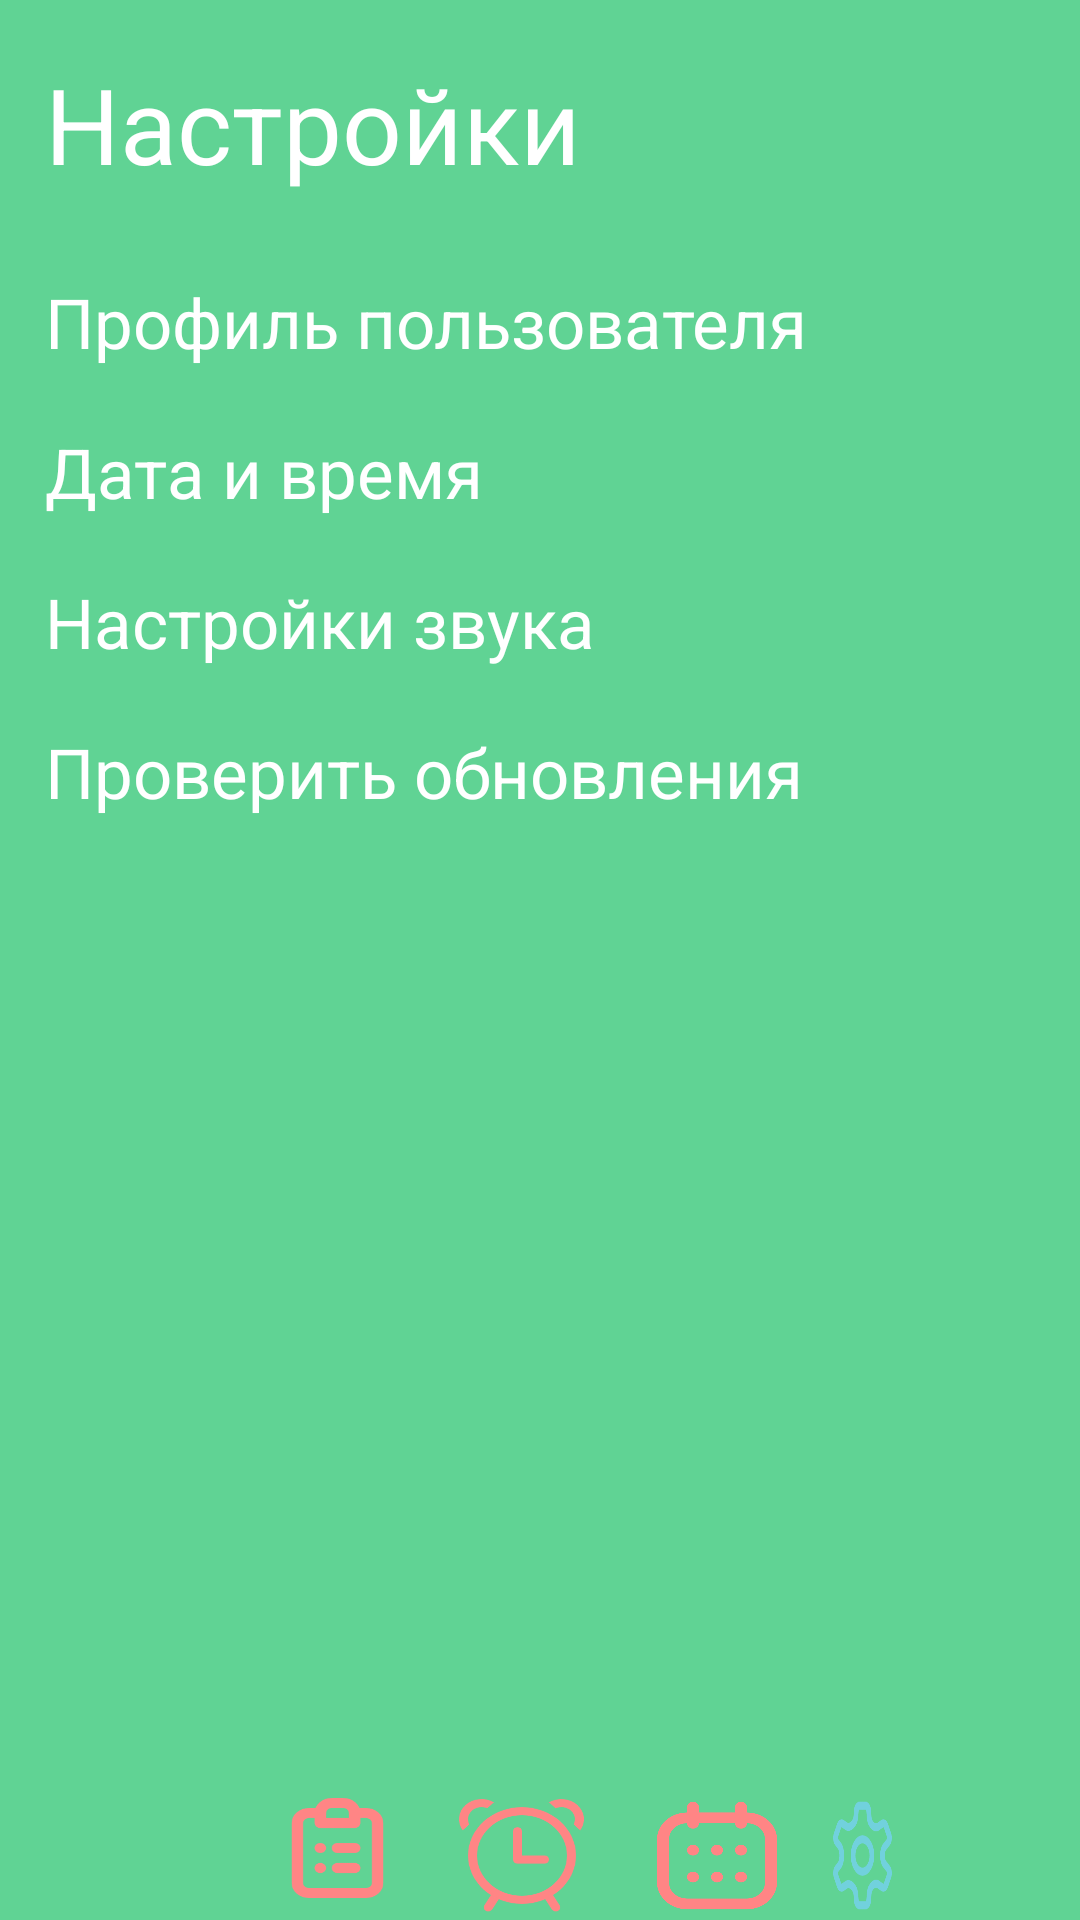

Named icons in this screenshot (1080 × 1920) and their bounding boxes, (x1, y1, x2, y2):
Будильник: (459, 1799, 584, 1912)
Календарь: (657, 1802, 777, 1909)
Настройки: (833, 1802, 892, 1909)
Список: (291, 1798, 384, 1898)
